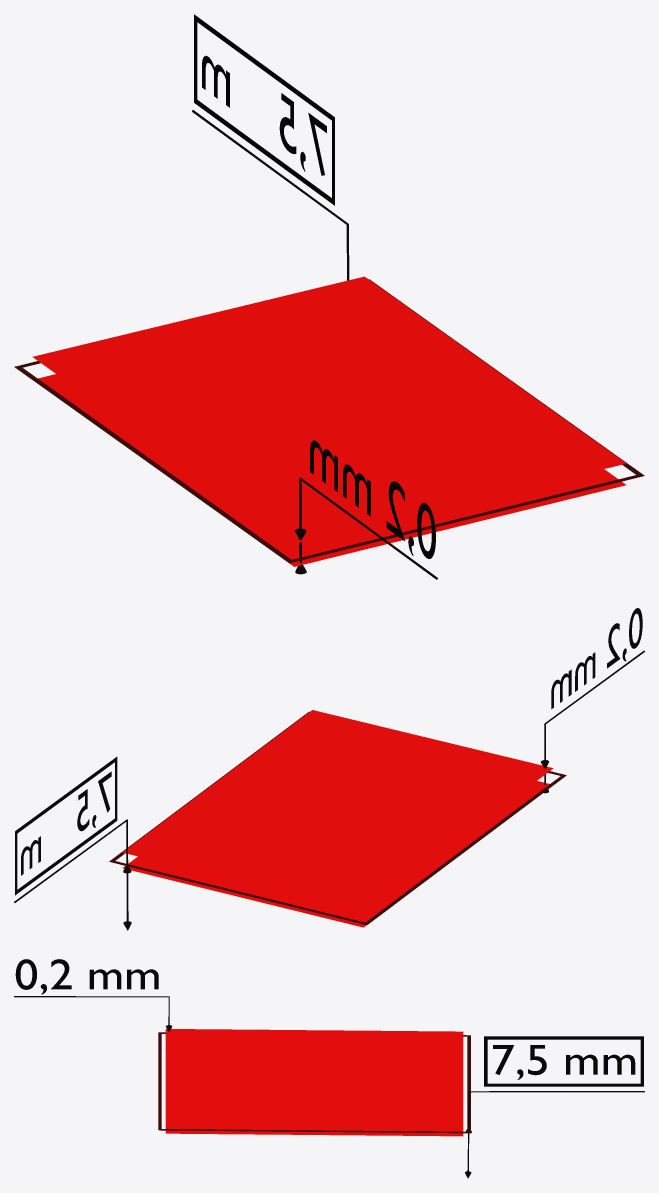
3 views of the same model, one above another, from view 1: azimuth 30°, elevation 25°; view 2: azimuth 150°, elevation 25°; view 3: azimuth 270°, elevation 25° (orthographic). The views are drawn at different scales.
Parts seen in each view (by area): view 1: ZT, Plane, Text, Text.001; view 2: ZT, Plane, Text, Text.001, NurbsPath.001; view 3: ZT, Plane, Text, Text.001, NurbsPath.001, NurbsPath.
Part boxes in pixels (<box>): ZT: <box>14,276,644,566</box>; Plane: <box>194,14,334,205</box>; Text: <box>310,440,435,558</box>; Text.001: <box>202,55,326,175</box>; ZT: <box>109,710,566,927</box>; Plane: <box>15,757,117,895</box>; Text: <box>551,608,642,708</box>; Text.001: <box>21,771,111,875</box>; NurbsPath.001: <box>14,819,128,923</box>; ZT: <box>158,1029,470,1136</box>; Plane: <box>484,1036,643,1086</box>; Text: <box>15,959,158,994</box>; Text.001: <box>493,1045,635,1079</box>; NurbsPath.001: <box>467,1091,644,1172</box>; NurbsPath: <box>14,996,169,1026</box>.
Bounding box in the file's own units: 3.34 × 2.25 × 9.04.
